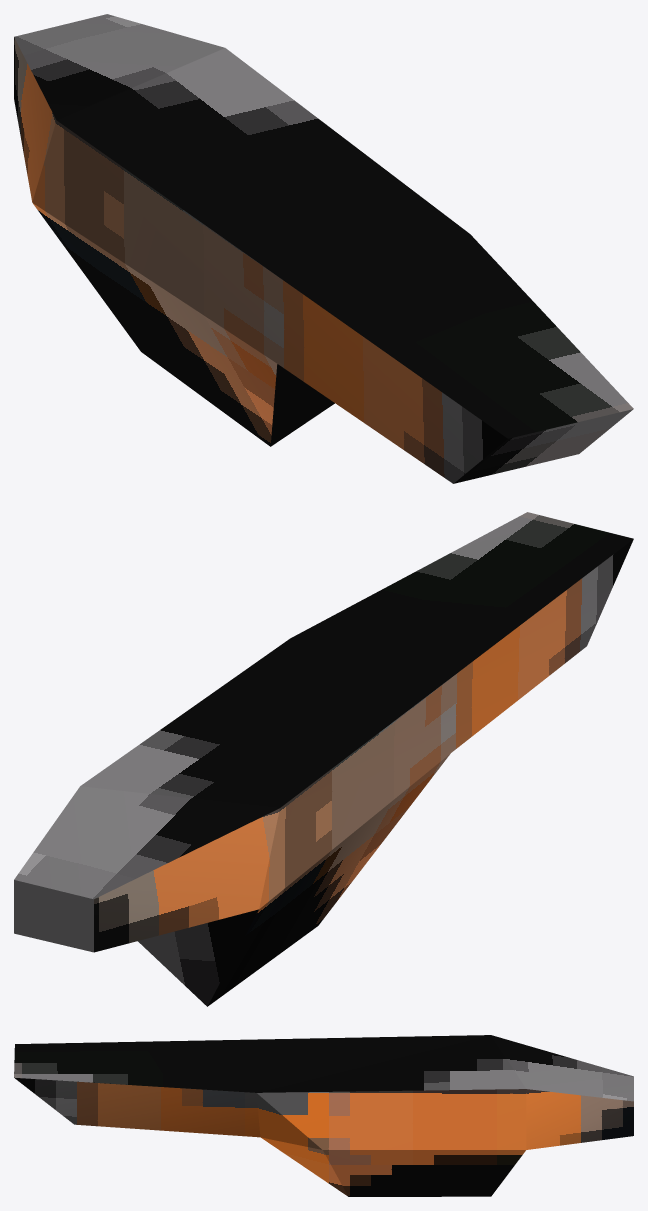
The model's file is LOD2-UVFlip.obj.
The picture shows the model from 3 angles, top to bottom: view 1: azimuth 30°, elevation 25°; view 2: azimuth 150°, elevation 25°; view 3: azimuth 270°, elevation 25°; orthographic projection. The views are drawn at different scales.
Visible parts, largest first — view 1: LOD2_Texture; view 2: LOD2_Texture; view 3: LOD2_Texture.
Boxes of the visible parts, bbox=[...] form: LOD2_Texture: bbox=[14, 14, 633, 483]; LOD2_Texture: bbox=[14, 512, 633, 1006]; LOD2_Texture: bbox=[14, 1035, 633, 1196].
Size of the model in its own units: 4.13 by 4.29 by 17.31.
